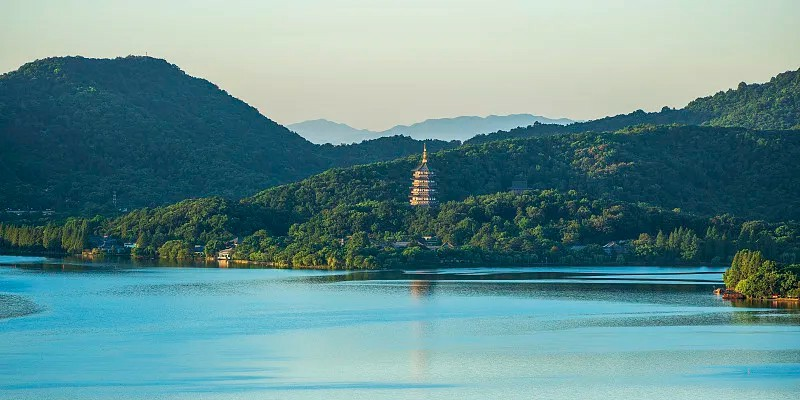Leifeng: (408, 140, 438, 210)
